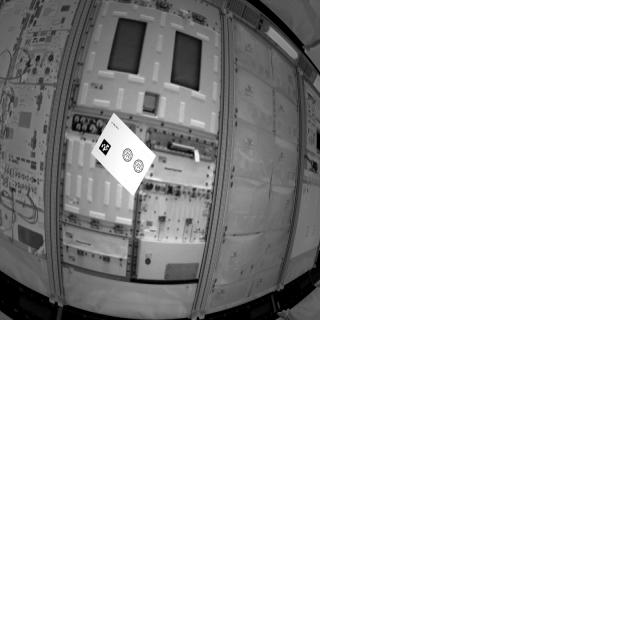coin: (122, 148, 135, 164), (134, 159, 146, 175)
